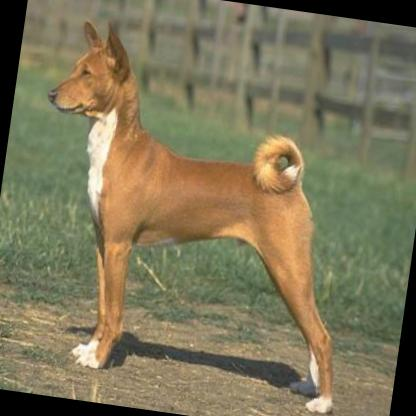basenji: (1, 2, 391, 416)
